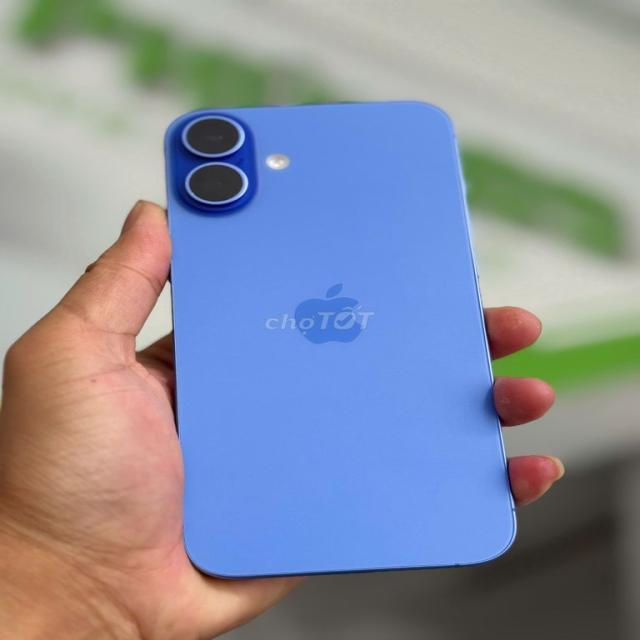gen_16: (166, 102, 515, 578)
